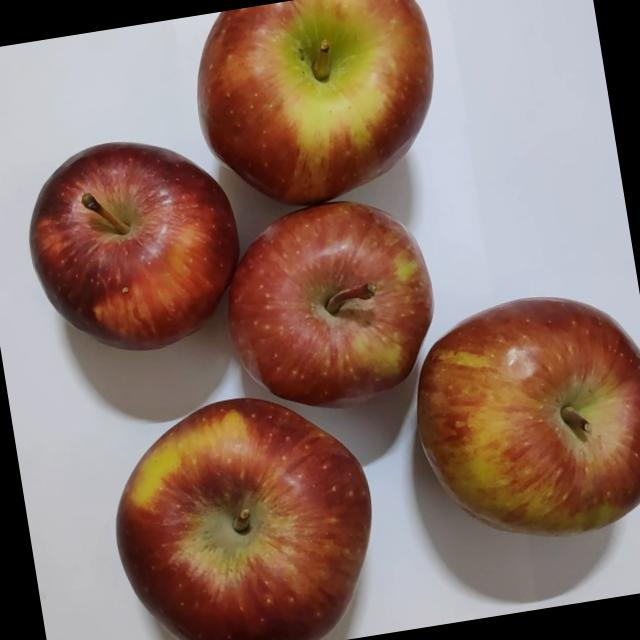apple: (95, 381, 399, 640), (392, 282, 640, 575), (177, 0, 466, 238), (12, 124, 265, 386), (206, 188, 464, 442)
